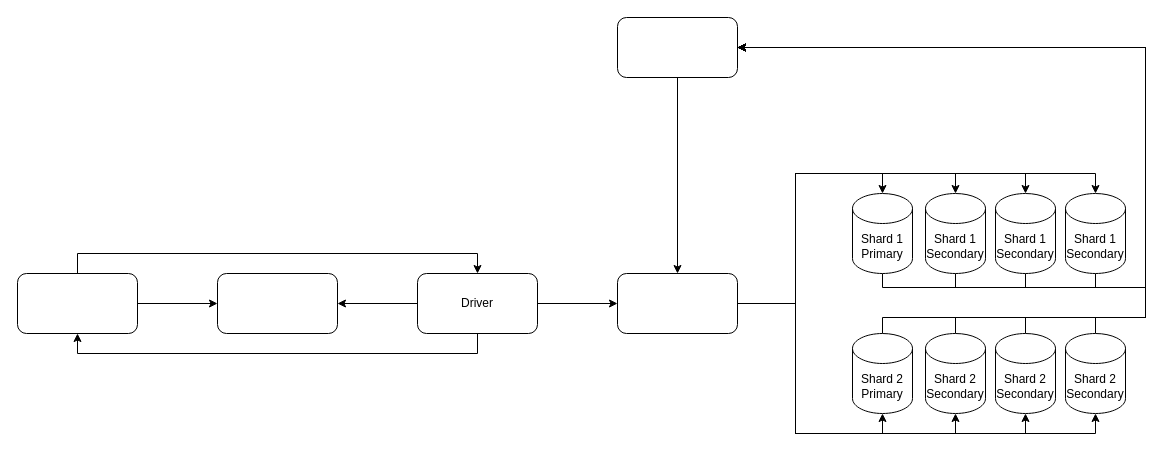
Some shapes in this 1171 by 459 pixel diagram are drawn without their labels. Here are the shapes that lost their labels. From the top down, the centre of each, then its label:
point (677, 47): Config Server
point (77, 303): pymongo-api
point (277, 303): Redis
point (677, 303): Router
